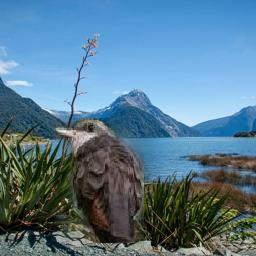Cuckoo: (54, 119, 144, 244)
